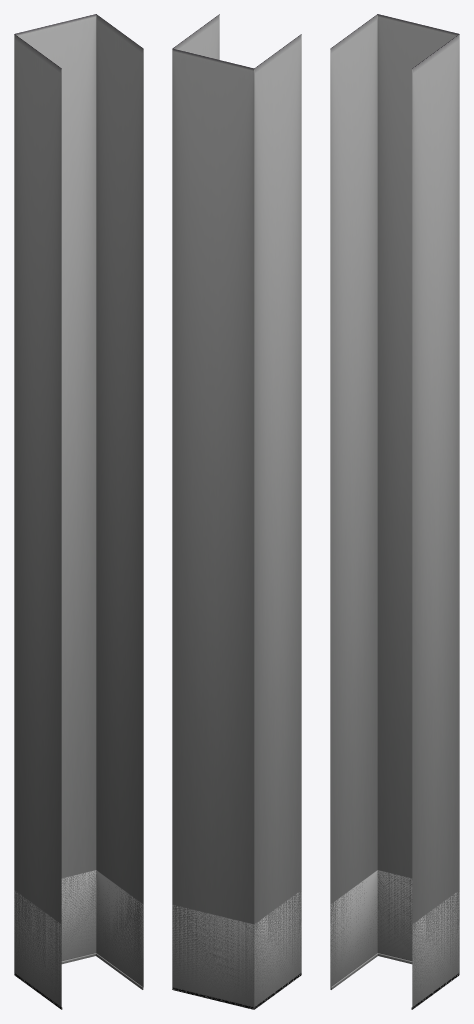
The model's file is golfRoom.glb.
3 renders of one model, left to right at view 1: azimuth 30°, elevation 25°; view 2: azimuth 150°, elevation 25°; view 3: azimuth 330°, elevation 25°, orthographic.
Visible parts, largest first — view 1: wallsHeigth, walls; view 2: wallsHeigth, walls; view 3: wallsHeigth, walls.
Part boxes in pixels (<box>): wallsHeigth: <box>14,14,143,1008</box>; walls: <box>14,870,143,1009</box>; wallsHeigth: <box>172,14,301,1007</box>; walls: <box>172,892,301,1009</box>; wallsHeigth: <box>330,14,459,1007</box>; walls: <box>330,870,459,1009</box>.
Bounding box in the file's own units: 1 × 11 × 1.
Materials: 1 (1 with a texture image).
